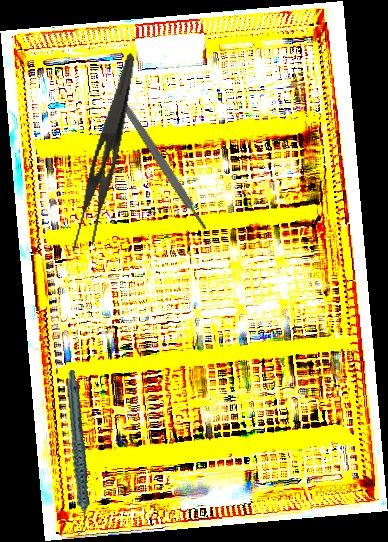Dressing Forceps: (68, 48, 137, 259)
Handpiece: (43, 369, 111, 537)
Scalpel Handle: (115, 95, 210, 232)
